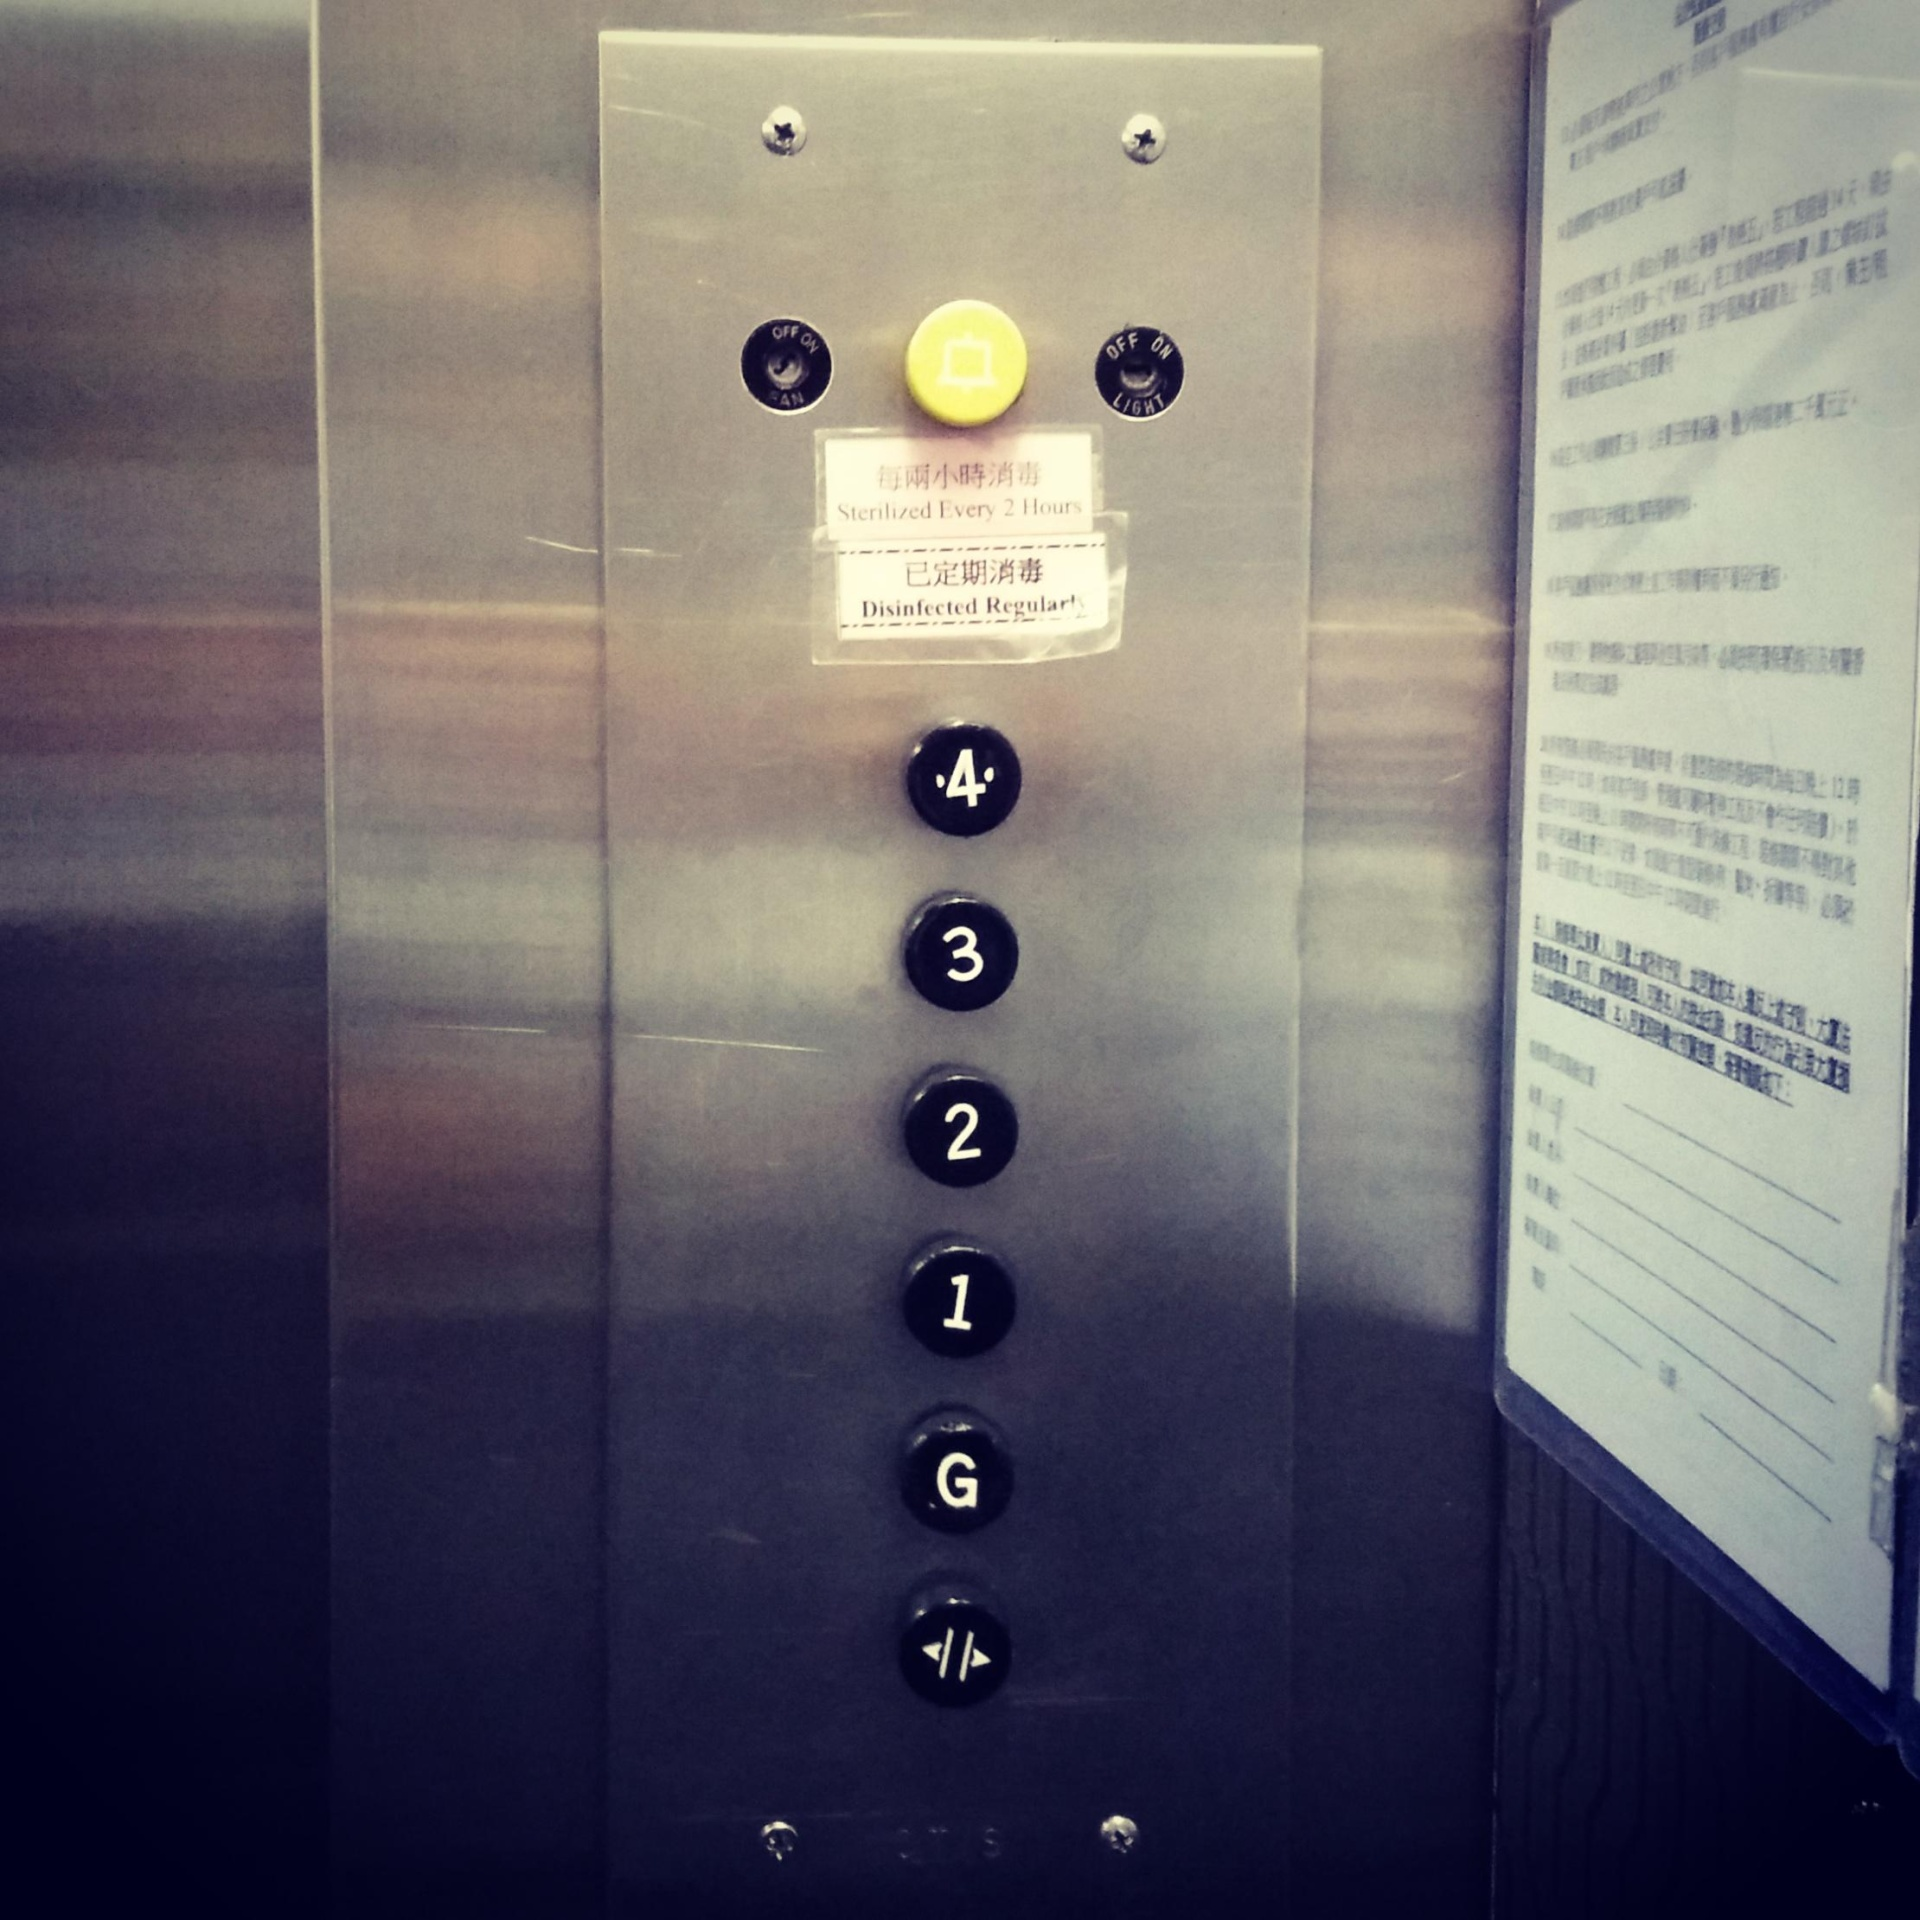1: (897, 1238, 1018, 1357)
2: (898, 1067, 1022, 1190)
3: (897, 895, 1022, 1013)
4: (904, 717, 1025, 840)
G: (898, 1405, 1016, 1533)
alarm: (904, 297, 1029, 427)
keyhole: (740, 318, 837, 413), (1094, 325, 1183, 425)
open: (900, 1581, 1015, 1705)
